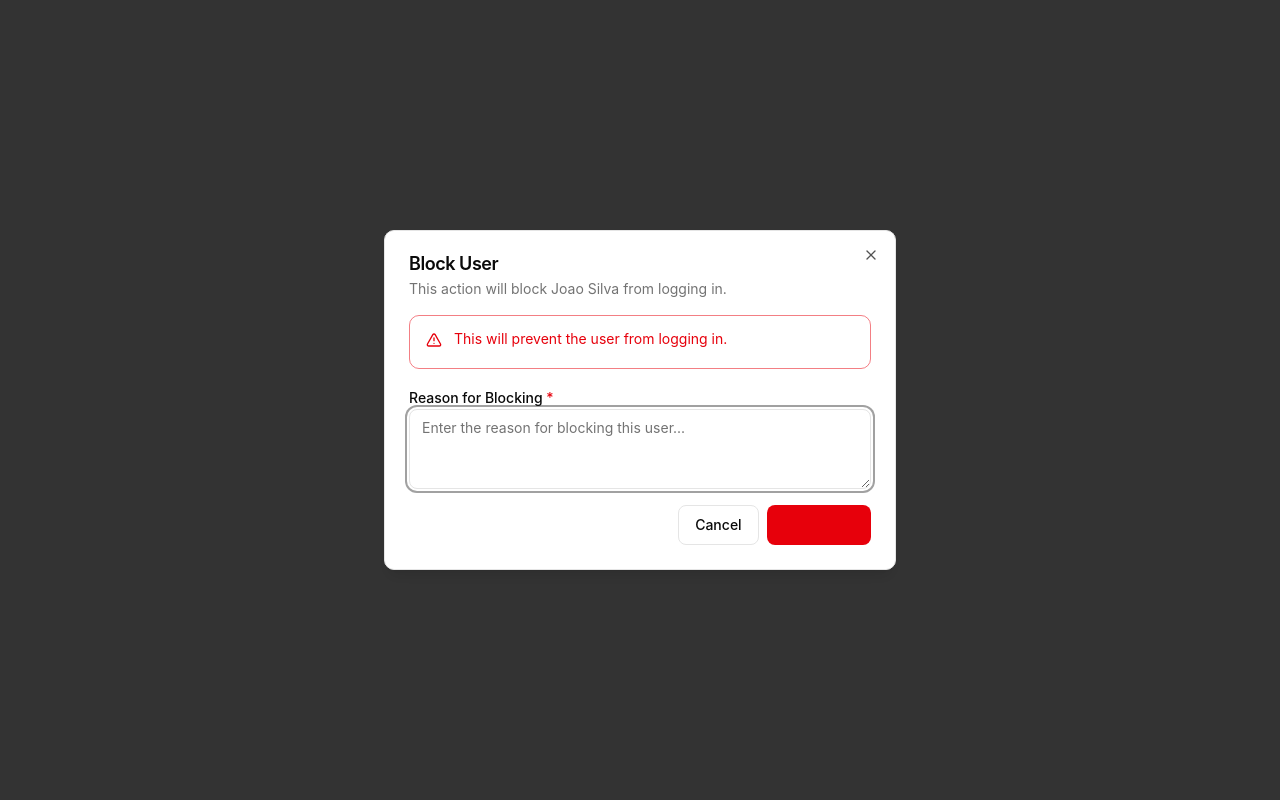
it: BlockDialog › shows loading state during submit
Type "User was violating terms of service repeatedly" into the text box labelled "Reason for Blocking *".
click(640, 449); type("User was violating terms of service repeatedly")  # box [409,409,871,489]
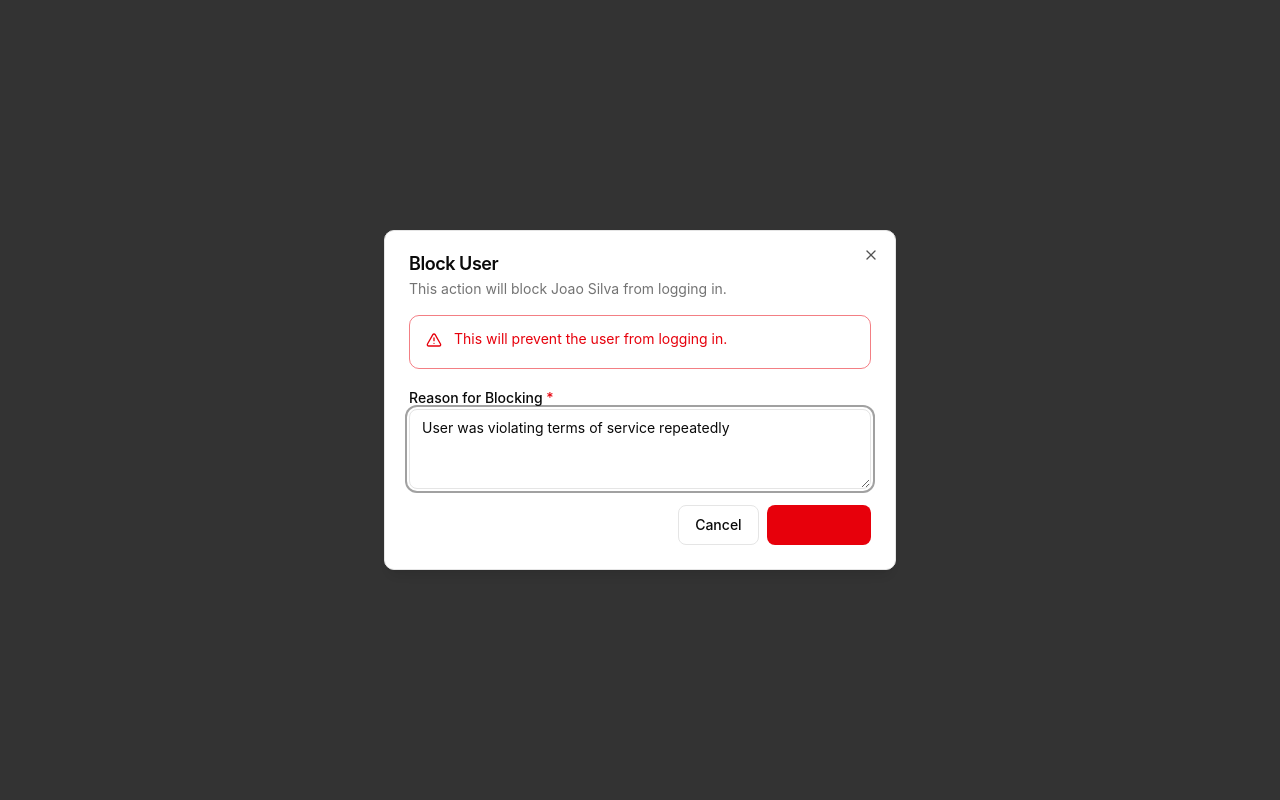
Click the button "Block User".
click(819, 525)  # box [767,505,871,545]
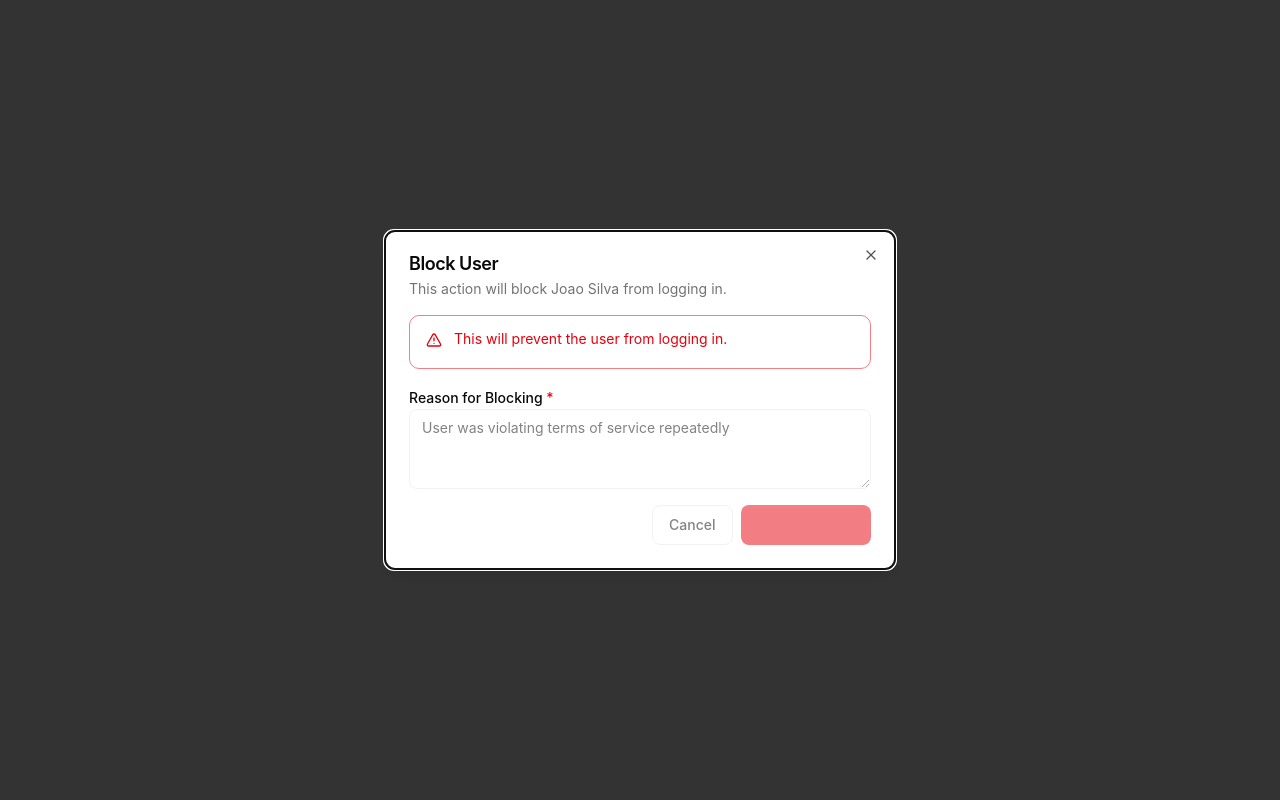
Now the button "Blocking..." is disabled, box [740,505,871,545]
